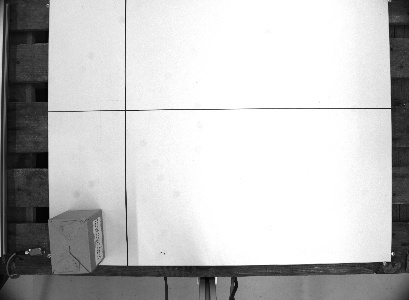b5: (46, 207, 107, 277)
